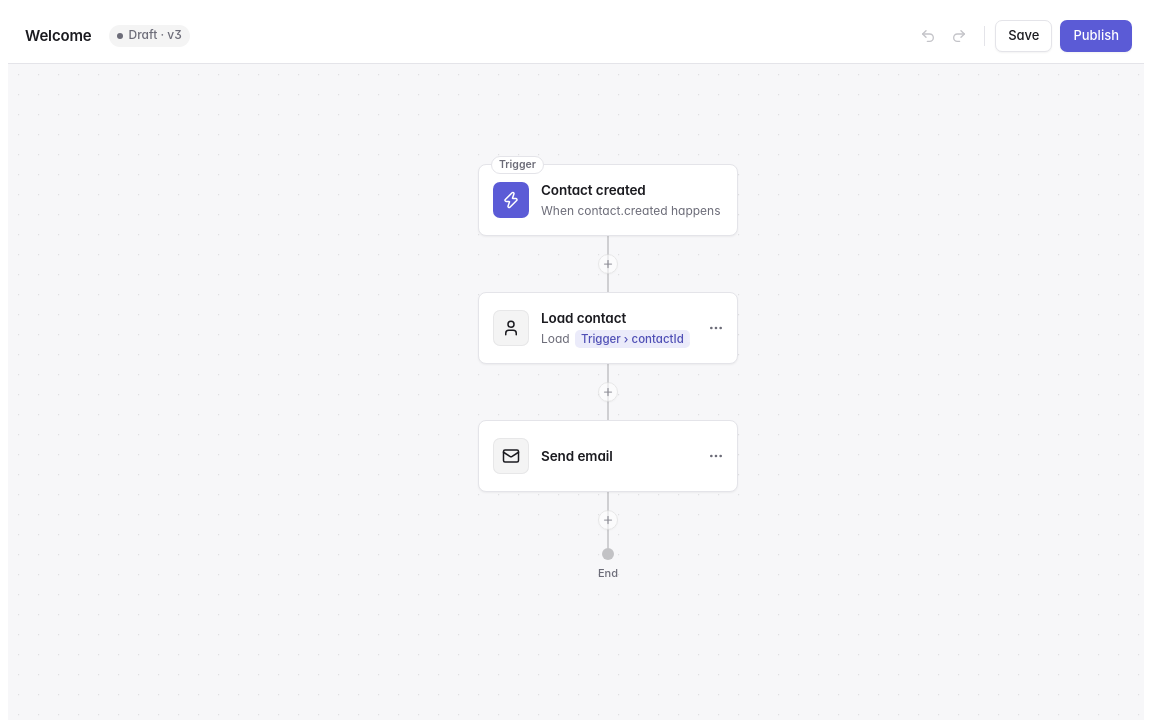
Test: WorkflowEditor › a publish rejected by the server shows its issues in a toast
This screenshot has width=1152, height=720.
expect the text "Draft · v3" is shown: met, box [108,24,190,46]
Click the button "Publish" at (1096, 36), box [1060,20,1132,52]
(page scrolled)
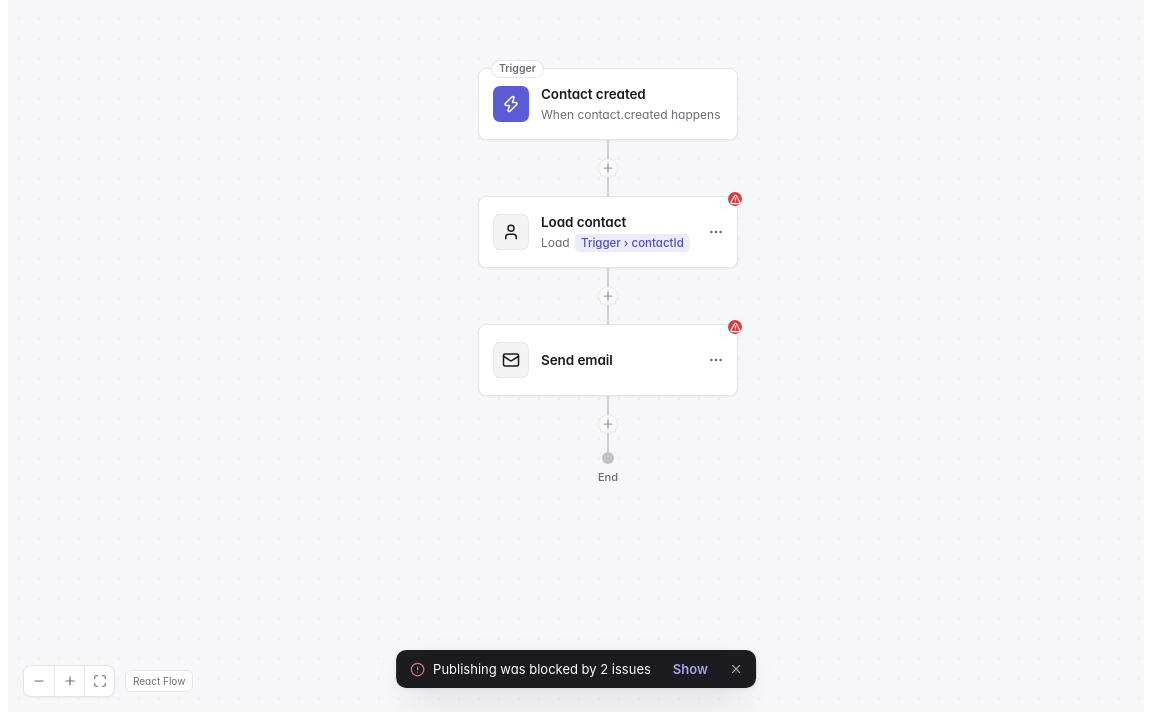
expect the text "Publishing was blocked by 2 issues" is shown: met, box [433,660,651,678]
